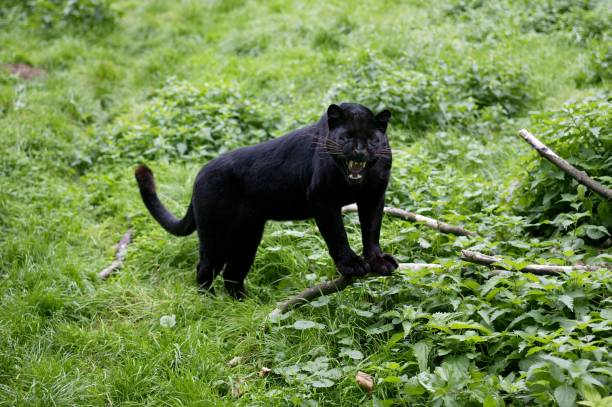panther: (320, 100, 395, 189)
